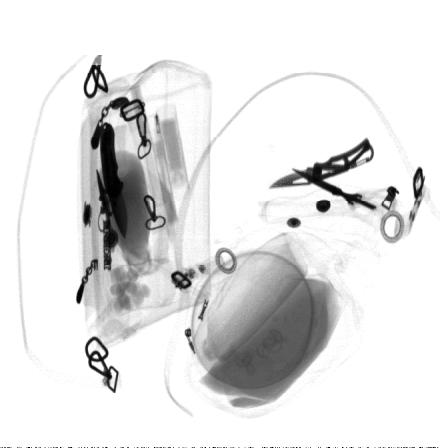Knife: (267, 136, 375, 187), (100, 121, 128, 240)
Scissors: (292, 165, 403, 241), (96, 168, 117, 233)
